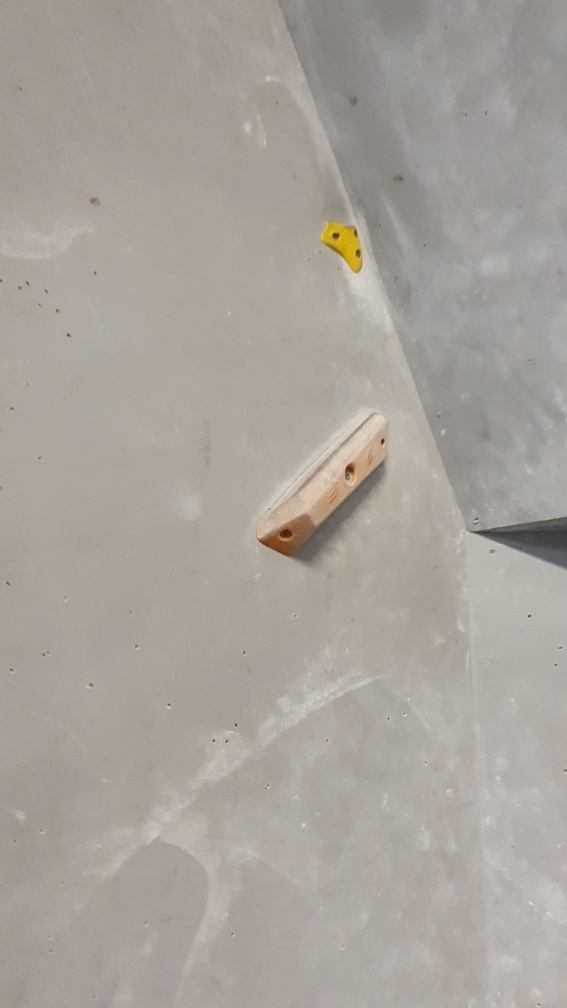Pinch: (256, 410, 391, 564)
